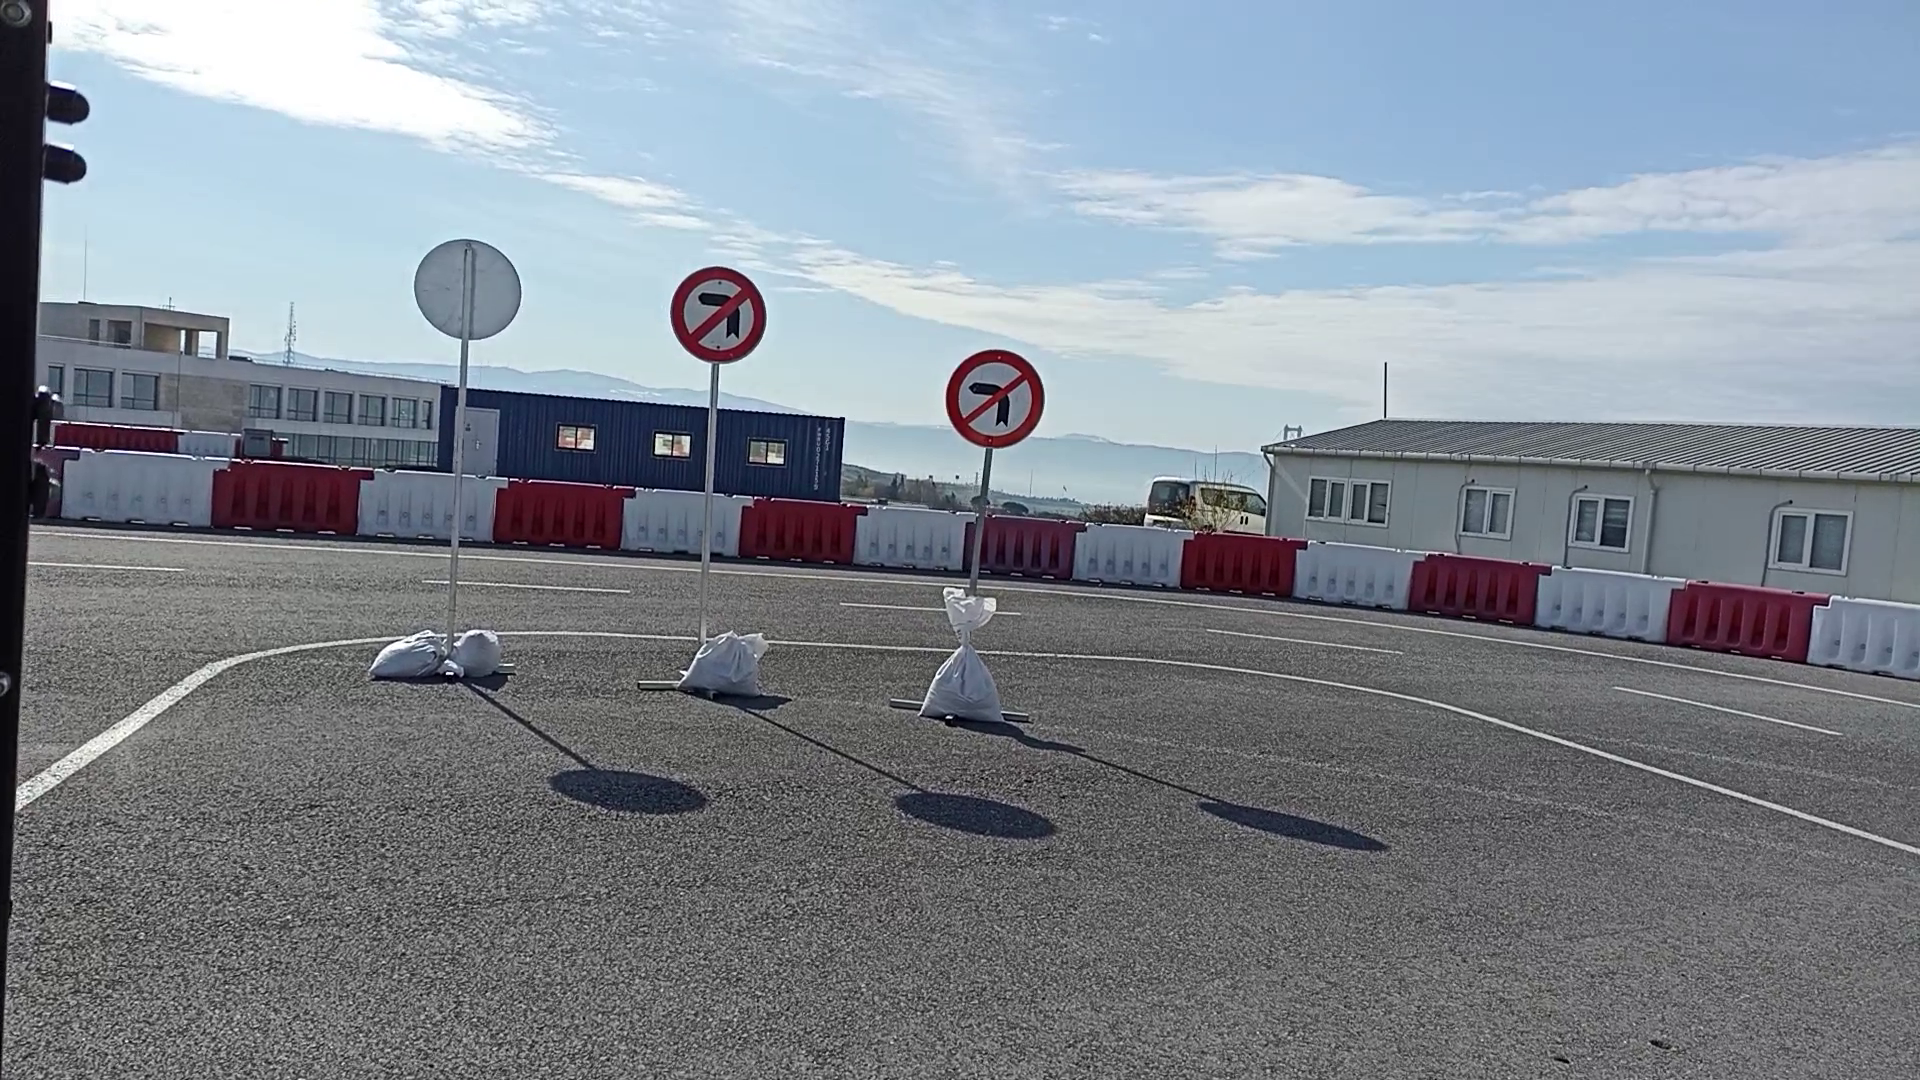noleft: (942, 347, 1046, 450), (669, 265, 769, 367)
